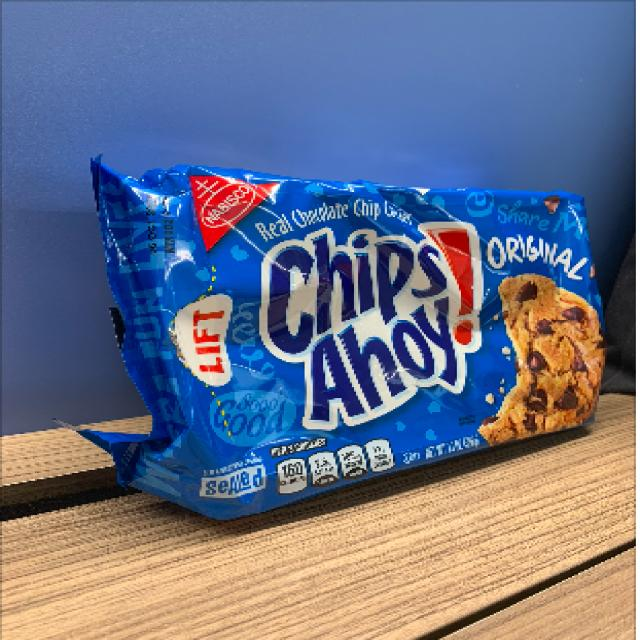object_name: (120, 180, 597, 443)
